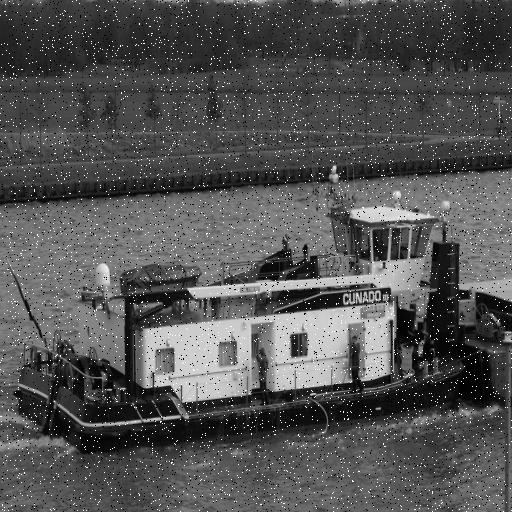tugboat: (10, 163, 491, 461)
